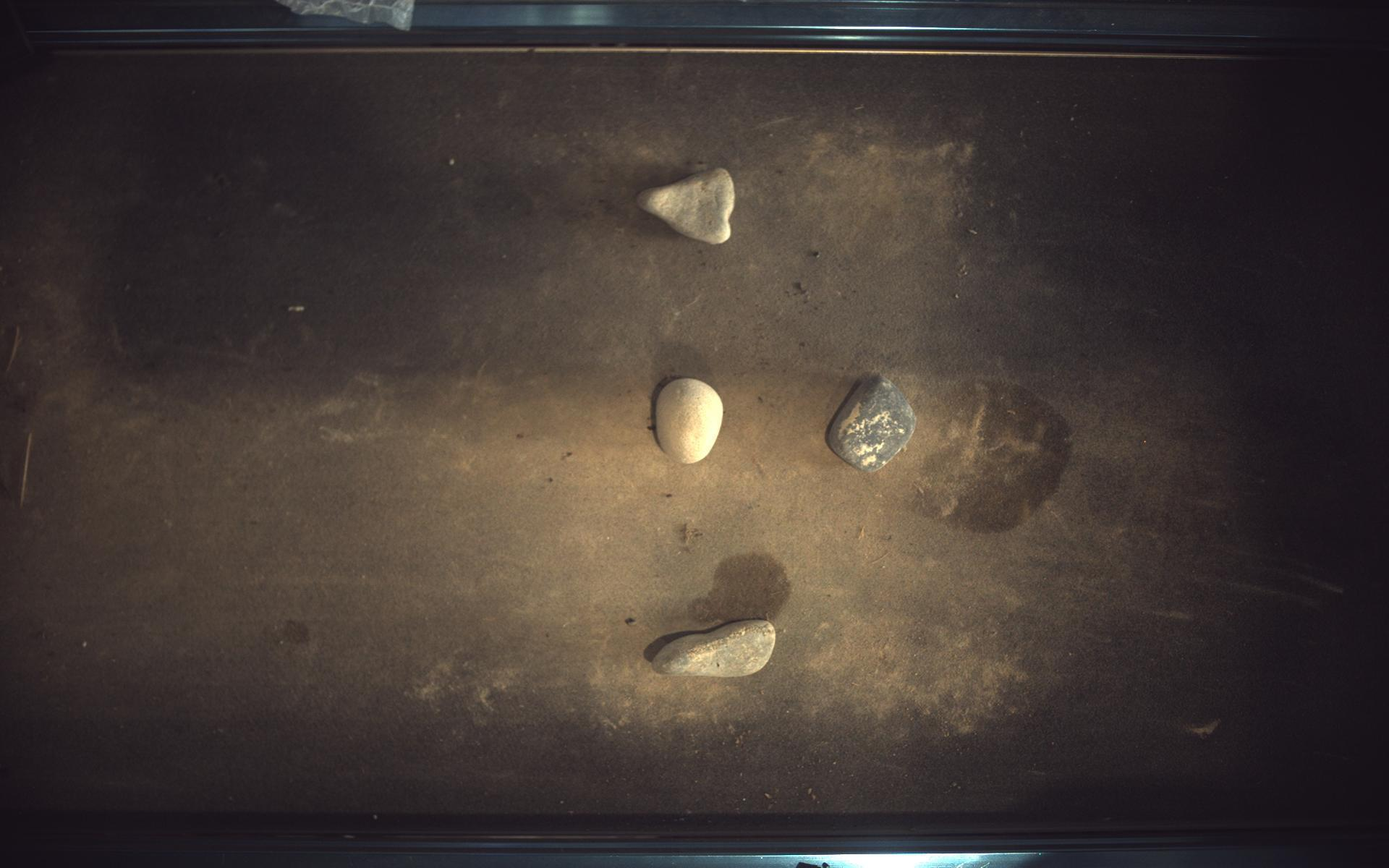stone: (829, 375, 917, 472), (637, 167, 736, 244), (653, 621, 777, 678), (657, 378, 724, 464)
